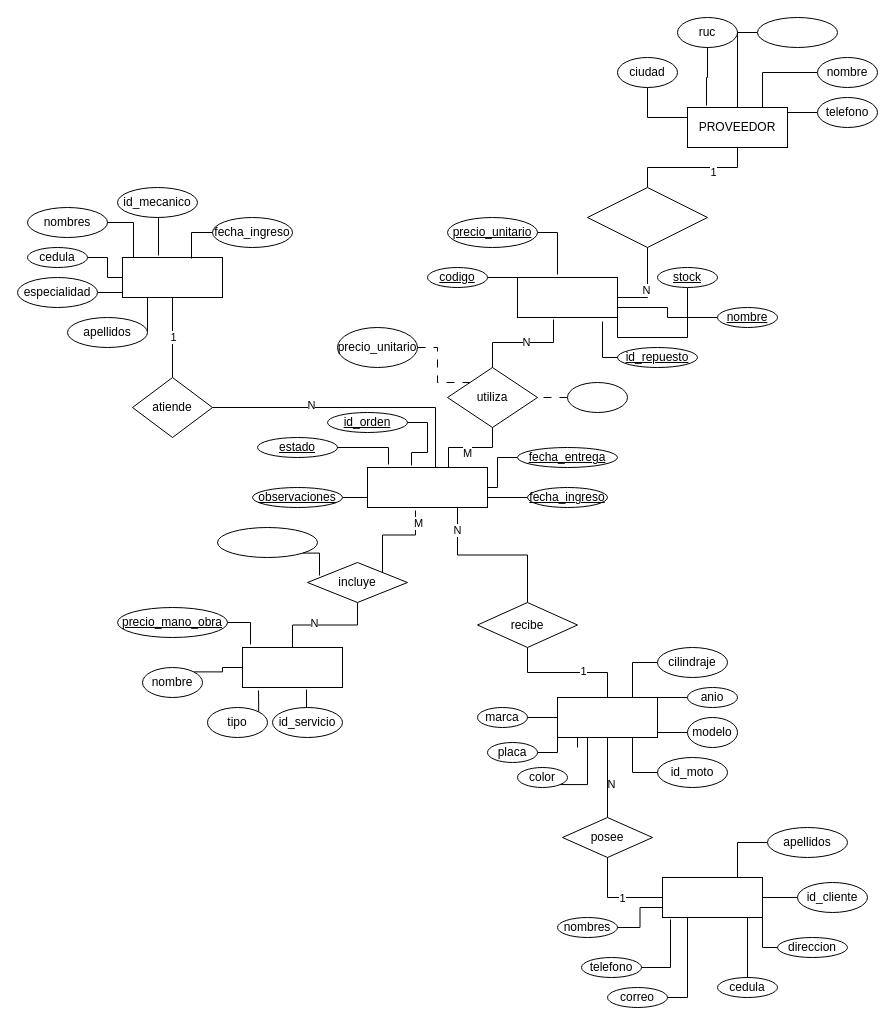
The diagram is 895 pixels wide and 1025 high, and some of its shapes have lost their labels. The centre of each missing label's shape, as x and y in pixels:
"cantidad" belongs at (x=597, y=397).
"CLIENTE" belongs at (x=712, y=897).
"id_proveedor" belongs at (x=797, y=32).
"MECANICO" belongs at (x=172, y=277).
"MOTO" belongs at (x=607, y=717).
"ORDEN_SERVICIO" belongs at (x=427, y=487).
"precio_aplicado" belongs at (x=267, y=542).
"REPUESTO" belongs at (x=567, y=297).
"SERVICIO" belongs at (x=292, y=667).
"suministra" belongs at (x=647, y=217).
